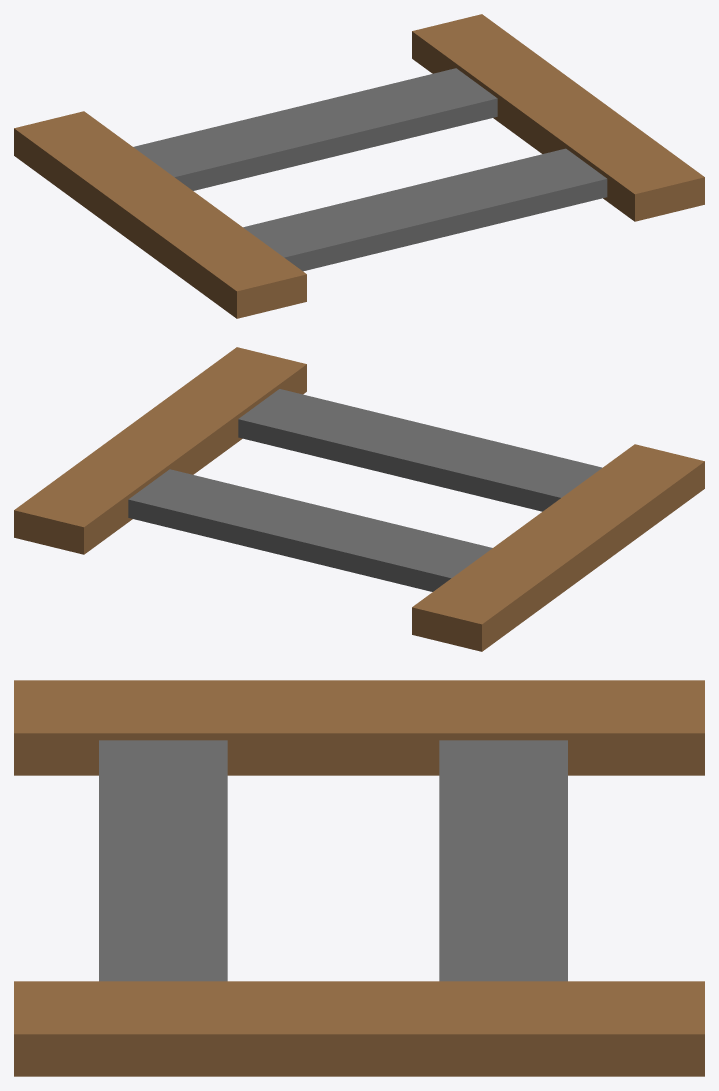
Rendered from trainTrack.fbx.
3 views of the same model, one above another, from view 1: azimuth 30°, elevation 25°; view 2: azimuth 150°, elevation 25°; view 3: azimuth 270°, elevation 25° (orthographic). The views are drawn at different scales.
Visible parts, largest first — view 1: pCube6; view 2: pCube6; view 3: pCube6.
Boxes of the visible parts, bbox=[...] form: pCube6: bbox=[14, 14, 704, 318]; pCube6: bbox=[14, 347, 704, 651]; pCube6: bbox=[14, 680, 704, 1076].
Size of the model in its own units: 5.86 by 0.3284 by 4.83.
1 material, 1 textured.
